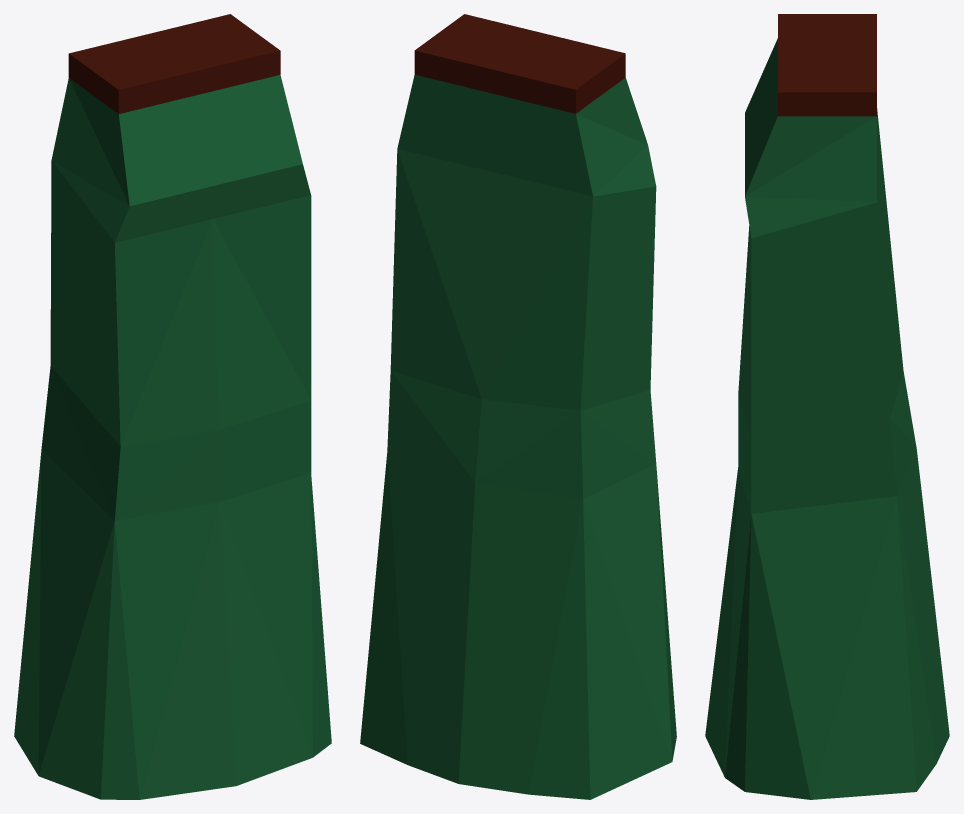
Rendered from npc_world_winelda_6.obj.
The picture shows the model from 3 angles, left to right: view 1: azimuth 30°, elevation 25°; view 2: azimuth 150°, elevation 25°; view 3: azimuth 270°, elevation 25°; orthographic projection.
Size of the model in its own units: 0.3906 by 0.8906 by 0.2891.
